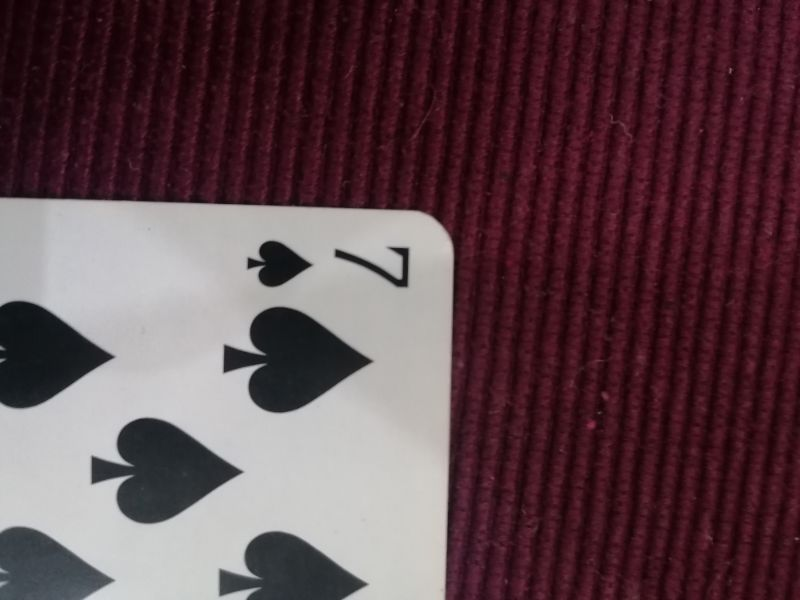7s: (235, 235, 419, 295)
